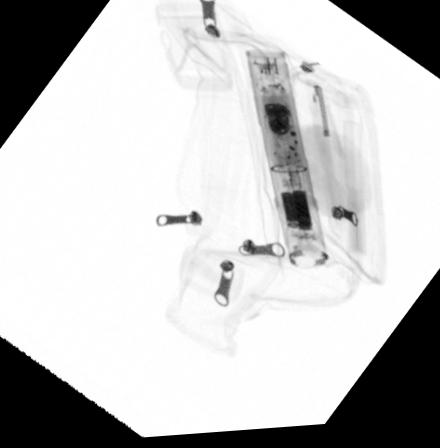Baton: (243, 51, 329, 276)
